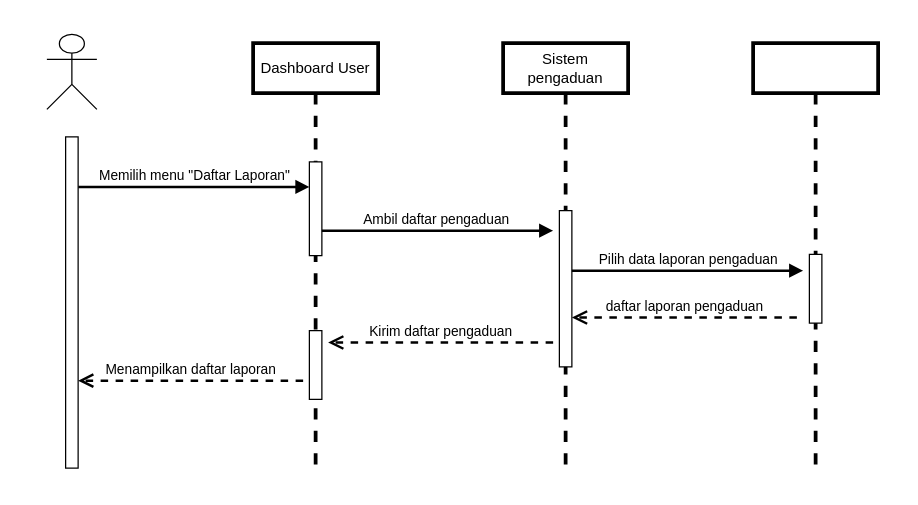
The diagram is 918 pixels wide and 505 high, and some of its shapes have lost their labels. Here are the shapes that lost their labels. From the top down, the centre of each, then its label:
At (x=71, y=71): "User".
At (x=815, y=255): "Database".
